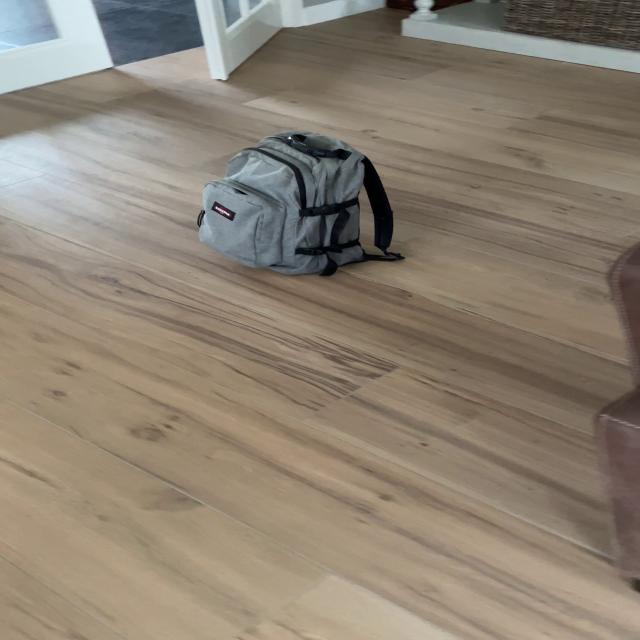backpack: (184, 125, 394, 280)
